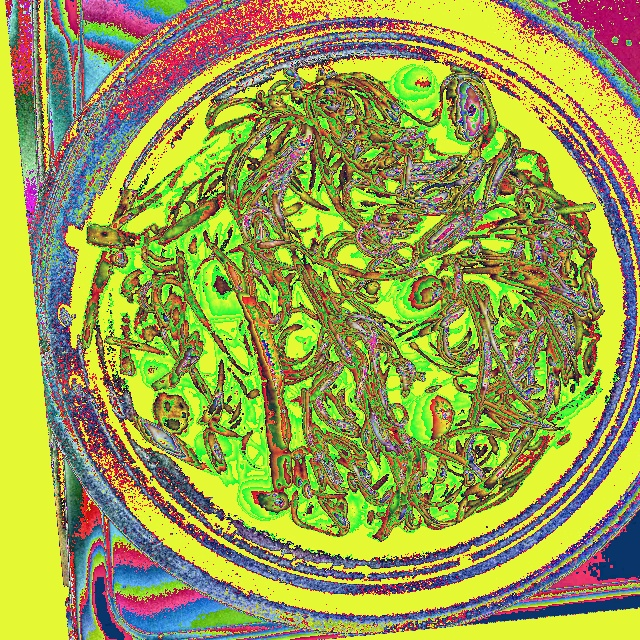background: (81, 65, 603, 542)
